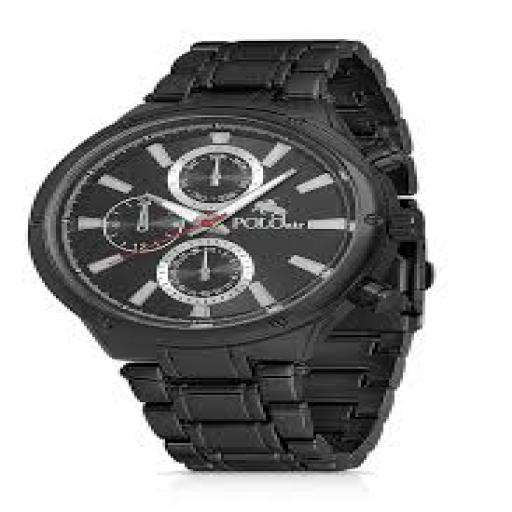KolSaati: (13, 10, 504, 464)
